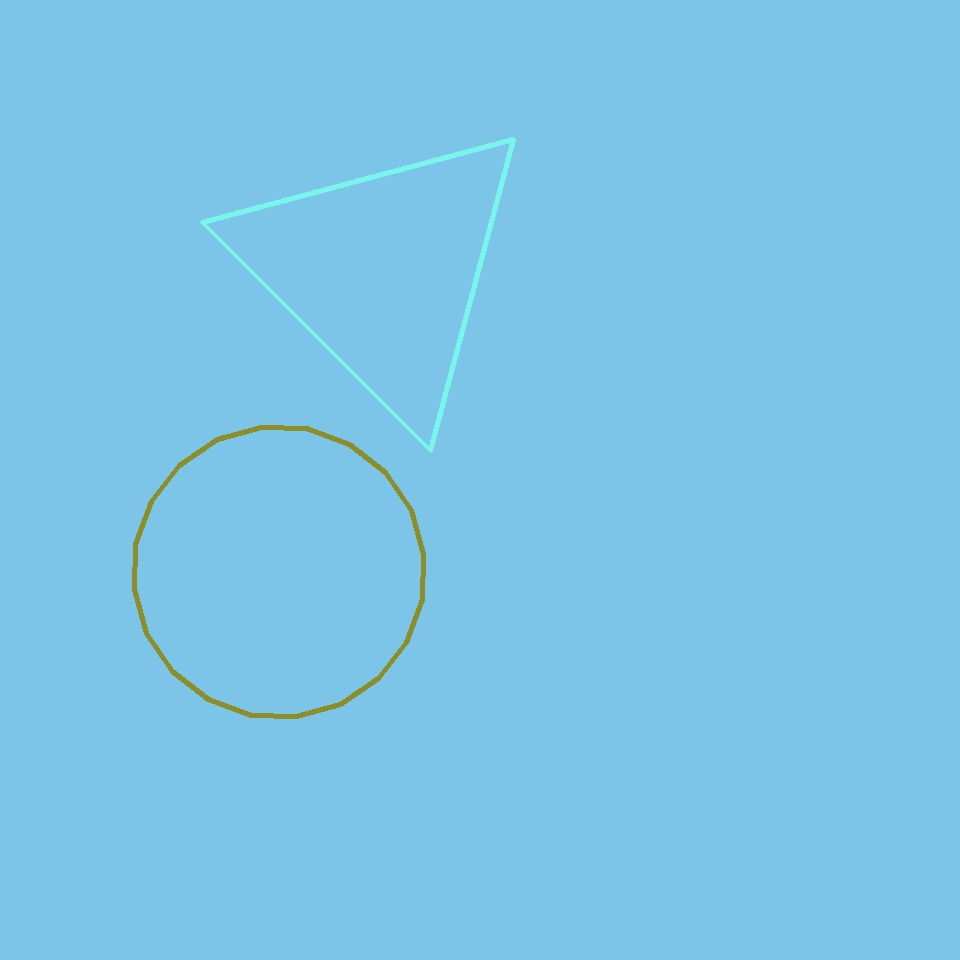circle: (226, 115, 537, 426)
triangle: (135, 428, 424, 716)
